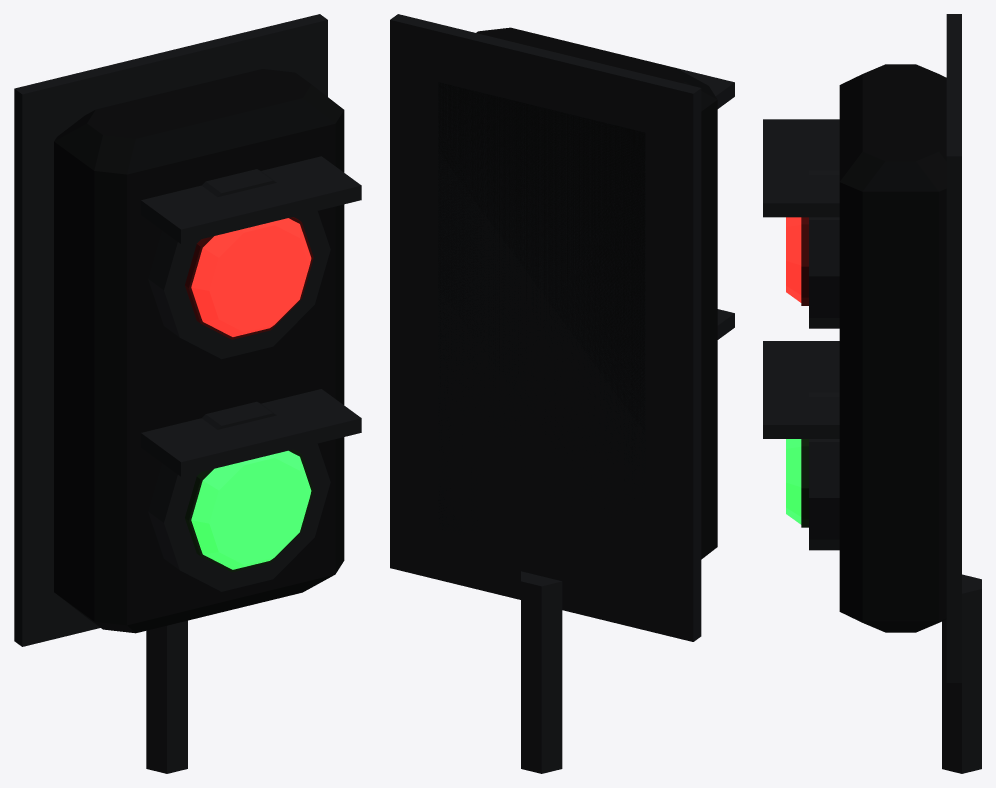
Rendered from SM_Int_StatusLight.glb.
The picture shows the model from 3 angles, left to right: view 1: azimuth 30°, elevation 25°; view 2: azimuth 150°, elevation 25°; view 3: azimuth 270°, elevation 25°; orthographic projection. The views are drawn at different scales.
Visible parts, largest first — view 1: SM_Int_StatusLight, SM_Int_StatusLight_Lit_Green, SM_Int_StatusLight_Lit_Red; view 2: SM_Int_StatusLight; view 3: SM_Int_StatusLight, SM_Int_StatusLight_Lit_Red, SM_Int_StatusLight_Lit_Green.
Part boxes in pixels (x1,y1,x2,y2): SM_Int_StatusLight: (14, 14, 361, 773); SM_Int_StatusLight_Lit_Green: (191, 450, 311, 569); SM_Int_StatusLight_Lit_Red: (191, 218, 311, 336); SM_Int_StatusLight: (390, 14, 734, 773); SM_Int_StatusLight: (763, 14, 981, 773); SM_Int_StatusLight_Lit_Red: (786, 217, 801, 302); SM_Int_StatusLight_Lit_Green: (786, 439, 801, 524).
Size of the model in its own units: 0.22 by 0.49 by 0.143.
1 material, 1 textured.
